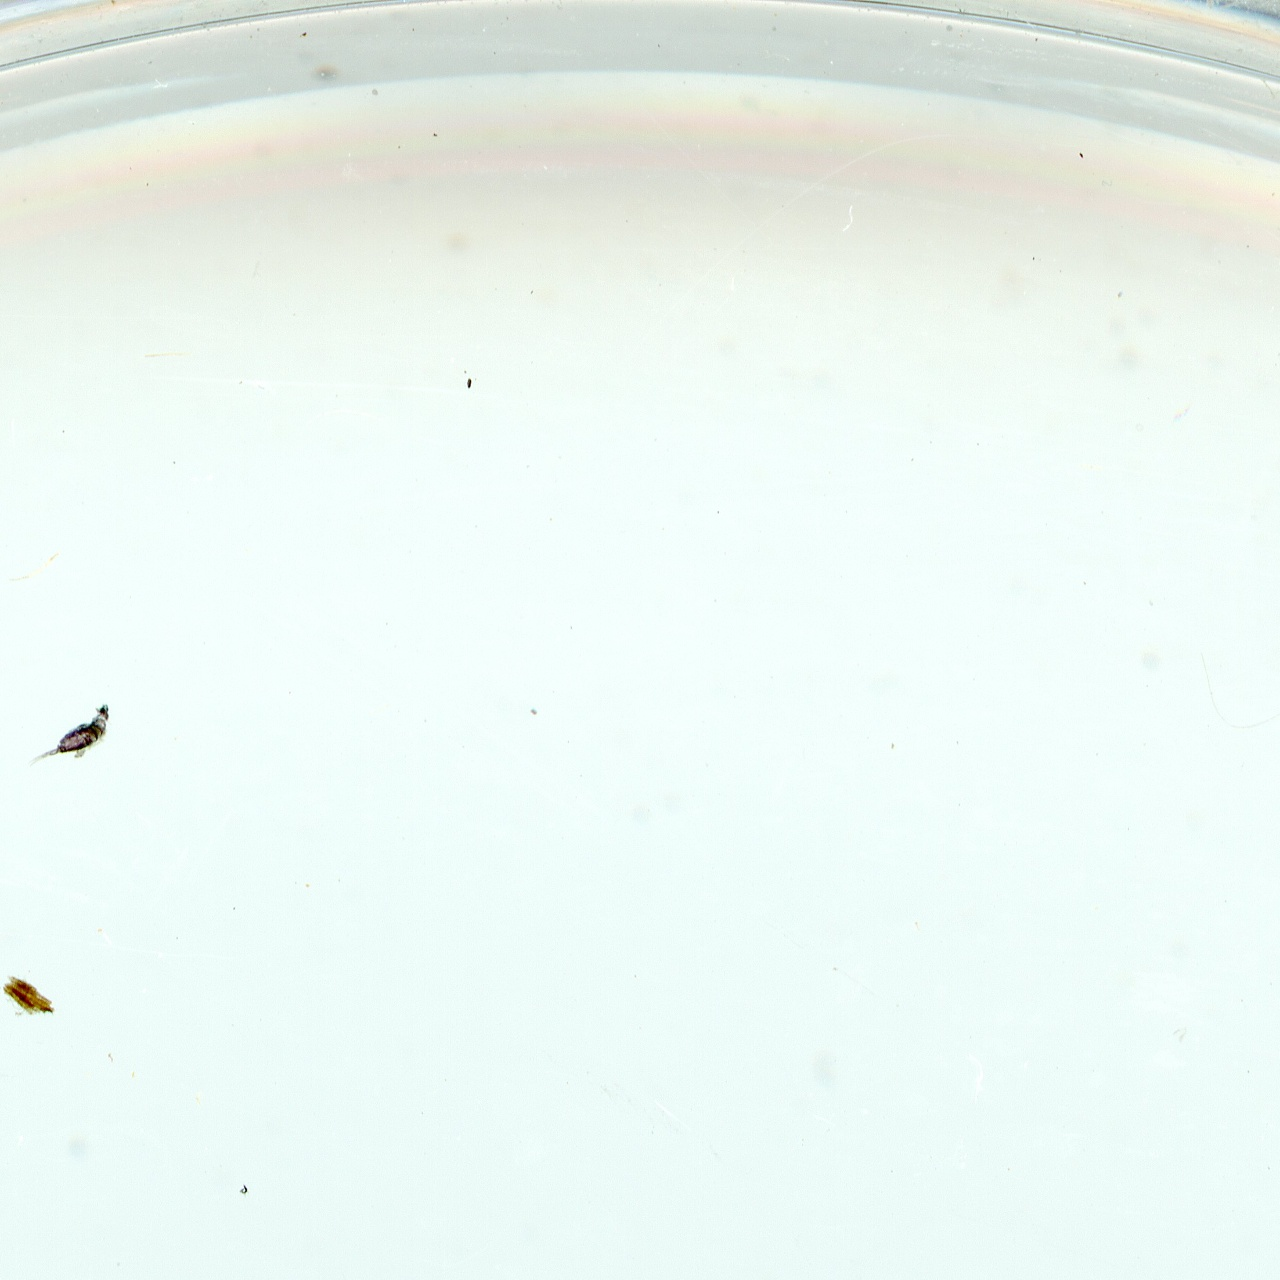arthropod: (16, 683, 129, 801)
